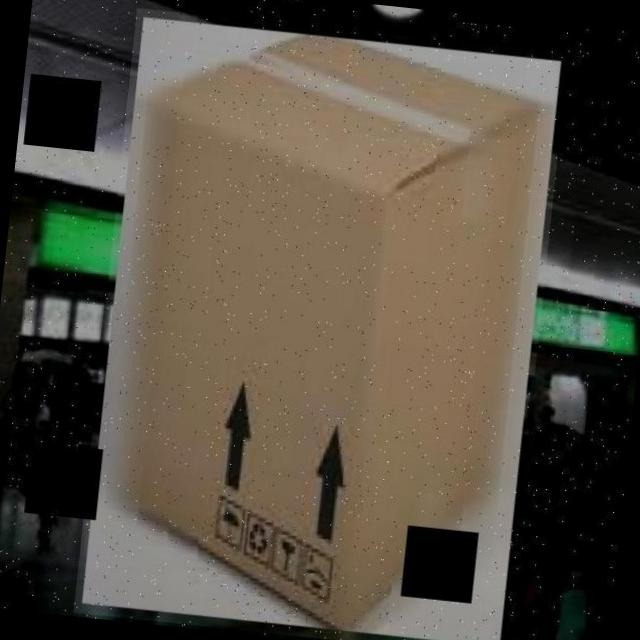box: (72, 7, 567, 640)
